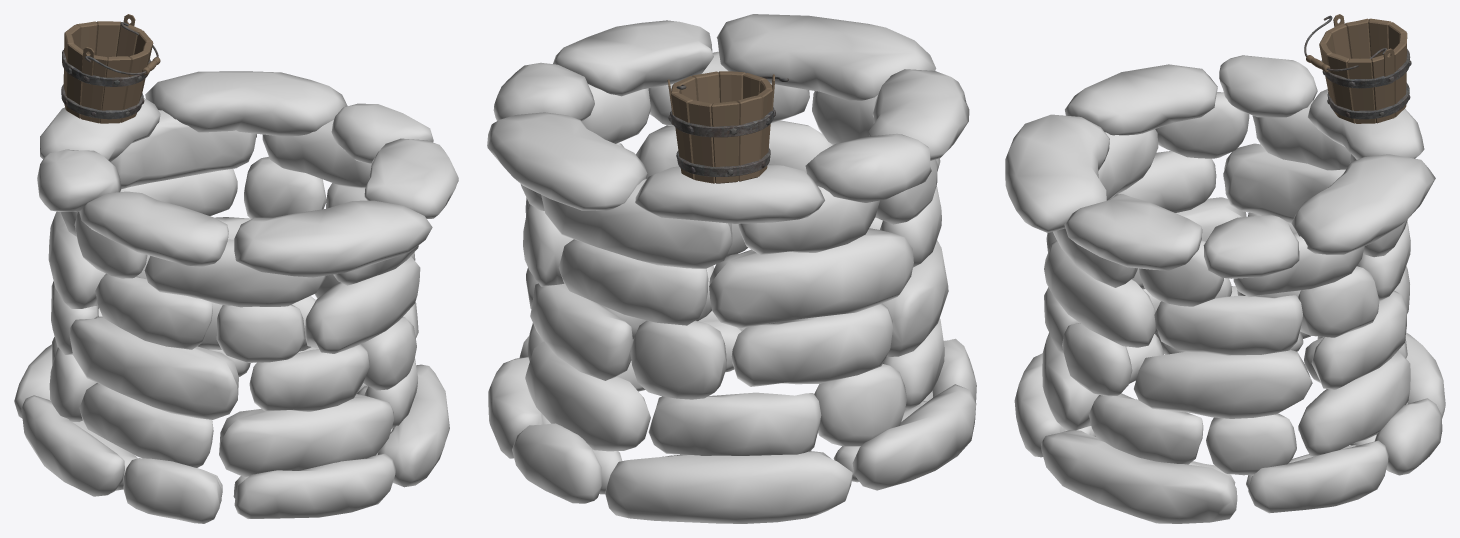
File: Well.fbx
3 renders of one model, left to right at view 1: azimuth 30°, elevation 25°; view 2: azimuth 150°, elevation 25°; view 3: azimuth 270°, elevation 25°, orthographic. The views are drawn at different scales.
Parts seen in each view (by area): view 1: puit, seau; view 2: puit, seau; view 3: puit, seau.
Boxes of the visible parts, <box> form: puit: <box>14,71,458,523</box>; seau: <box>61,14,153,123</box>; puit: <box>487,14,976,523</box>; seau: <box>667,71,775,183</box>; puit: <box>1005,55,1445,523</box>; seau: <box>1319,14,1411,123</box>.
Bounding box in the file's own units: 285 × 274 × 284.
Materials: 3 (1 with a texture image).
